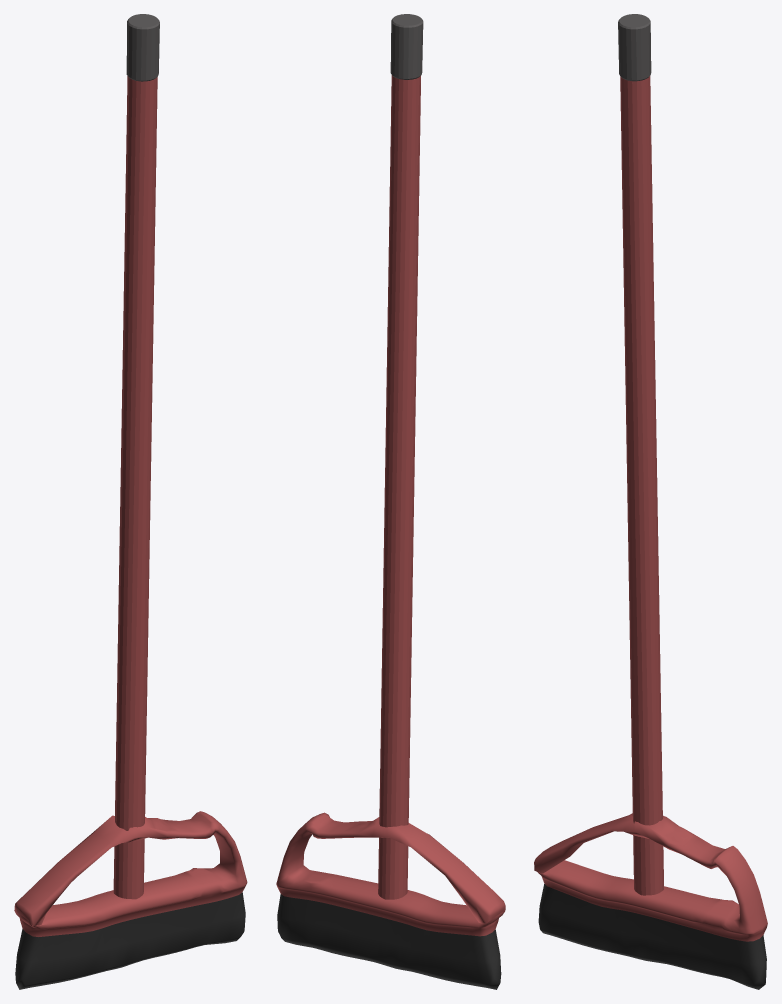
The model's file is Broom.fbx.
The picture shows the model from 3 angles, left to right: view 1: azimuth 30°, elevation 25°; view 2: azimuth 150°, elevation 25°; view 3: azimuth 330°, elevation 25°; orthographic projection. The views are drawn at different scales.
Parts seen in each view (by area): view 1: pCylinder2, pCube1; view 2: pCylinder2, pCube1; view 3: pCylinder2, pCube1.
Boxes of the visible parts, <box> form: pCylinder2: <box>113,14,159,899</box>; pCube1: <box>14,811,247,989</box>; pCylinder2: <box>378,14,423,899</box>; pCube1: <box>276,812,505,989</box>; pCylinder2: <box>618,14,663,895</box>; pCube1: <box>534,813,767,989</box>.
Size of the model in its own units: 0.9459 by 3.81 by 0.2363.
